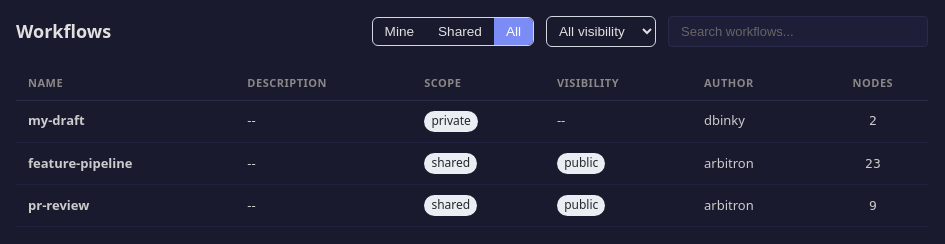
Test: WorkflowsCatalog scope filtering › filters by name search alongside scope
Expected: the text "my-draft" is shown, [16,100,235,142]
In the field with placeholder "Search workflows...": (798, 32) [668,16,928,47], type "pr-"
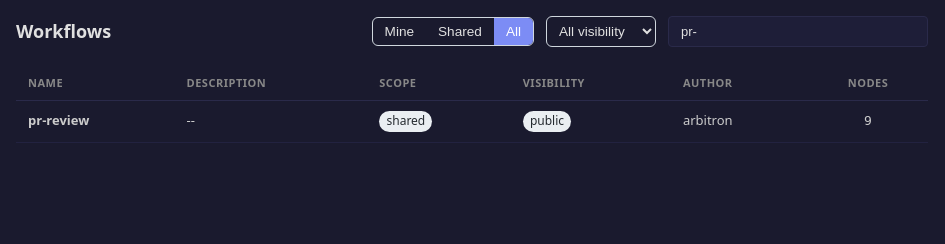
Expected: the text "pr-review" is shown, [16,100,175,142]
Result: the text "feature-pipeline" is gone
